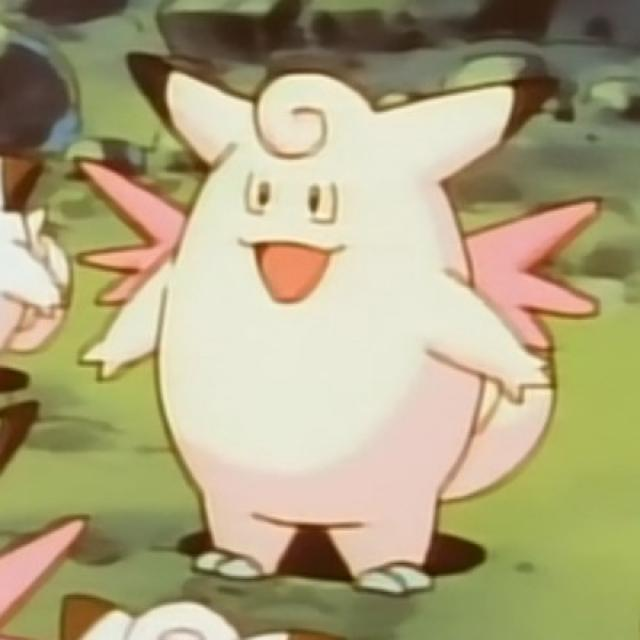Clefable: (103, 43, 557, 593)
